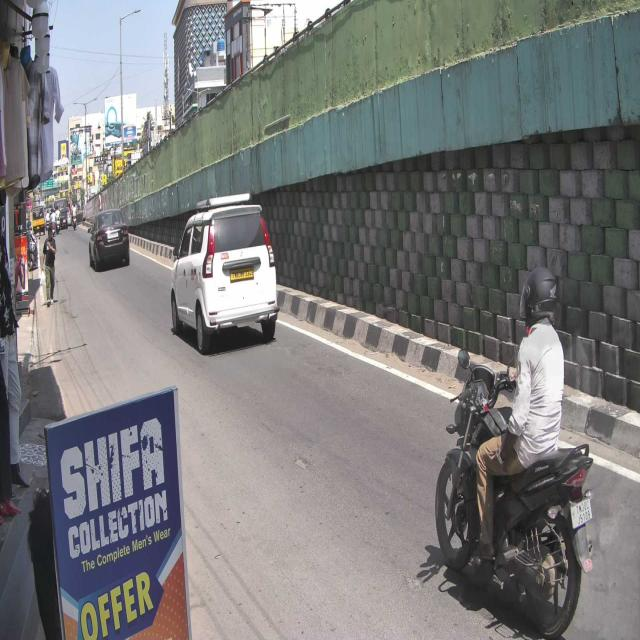single_rider: (434, 265, 597, 640)
